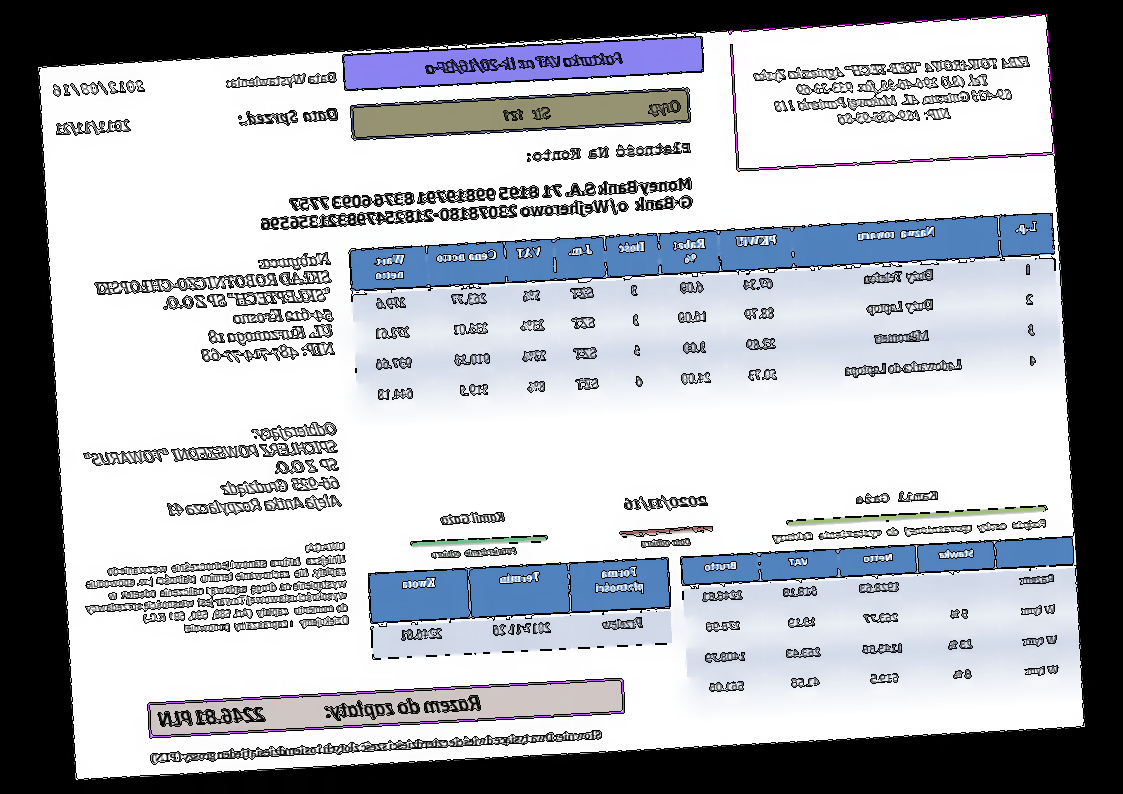Table: (349, 210, 1063, 415), (680, 535, 1082, 708), (367, 555, 674, 660)
TextBox: (92, 249, 338, 373), (79, 538, 352, 642), (78, 419, 344, 525), (257, 173, 696, 235), (752, 50, 1035, 133), (149, 726, 605, 766), (155, 690, 485, 732), (770, 516, 1049, 546), (422, 48, 628, 79), (500, 96, 683, 126), (525, 139, 694, 166), (231, 105, 342, 130), (223, 68, 339, 90), (50, 76, 148, 100), (622, 490, 711, 514), (851, 487, 941, 508), (52, 117, 134, 138), (431, 543, 519, 562), (438, 508, 509, 528), (638, 535, 694, 551)
